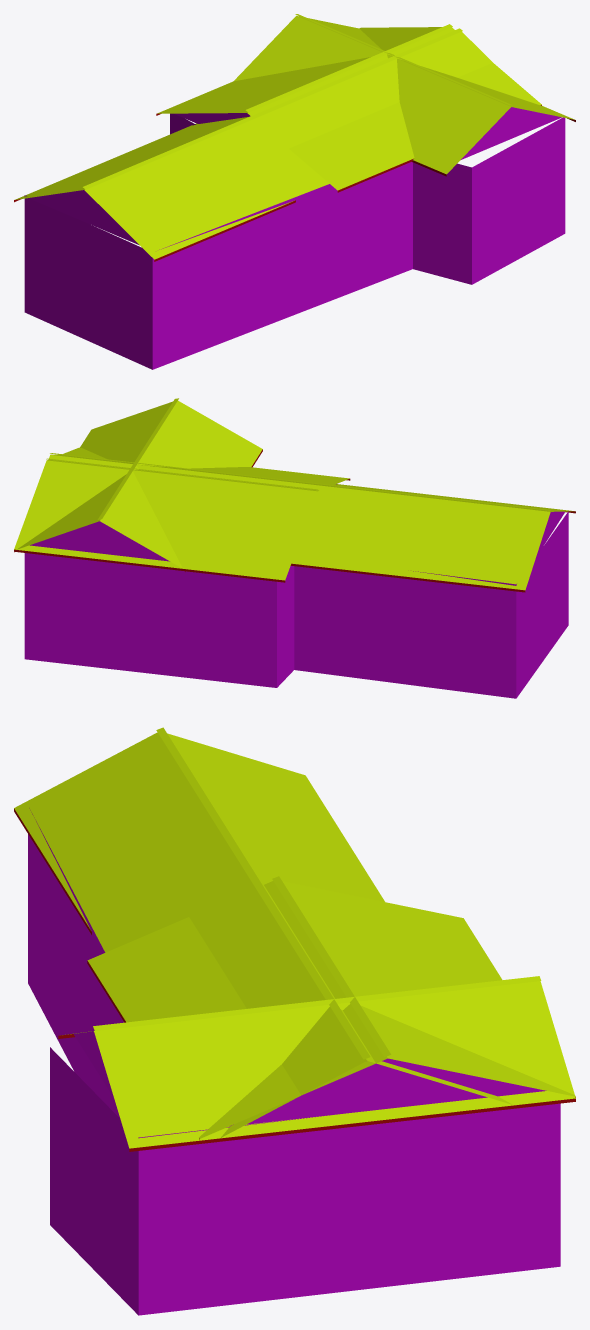
Rendered from sdt_70.glb.
3 renders of one model, top to bottom at view 1: azimuth 30°, elevation 25°; view 2: azimuth 150°, elevation 25°; view 3: azimuth 270°, elevation 25°, orthographic. The views are drawn at different scales.
Visible parts, largest first — view 1: sdt_70; view 2: sdt_70; view 3: sdt_70.
Part boxes in pixels (x1,y1,x2,y2): sdt_70: [14, 14, 575, 369]; sdt_70: [14, 398, 575, 698]; sdt_70: [14, 727, 575, 1315].
Size of the model in its own units: 28.71 by 8.51 by 18.29.
